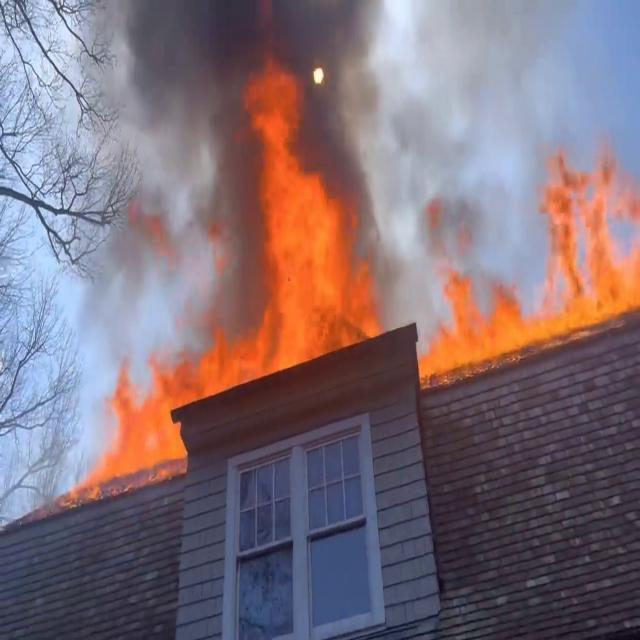Fire: (198, 84, 390, 378), (526, 137, 640, 335), (75, 356, 192, 489), (417, 259, 535, 380)
Smoke: (92, 0, 398, 232), (373, 55, 526, 278)
